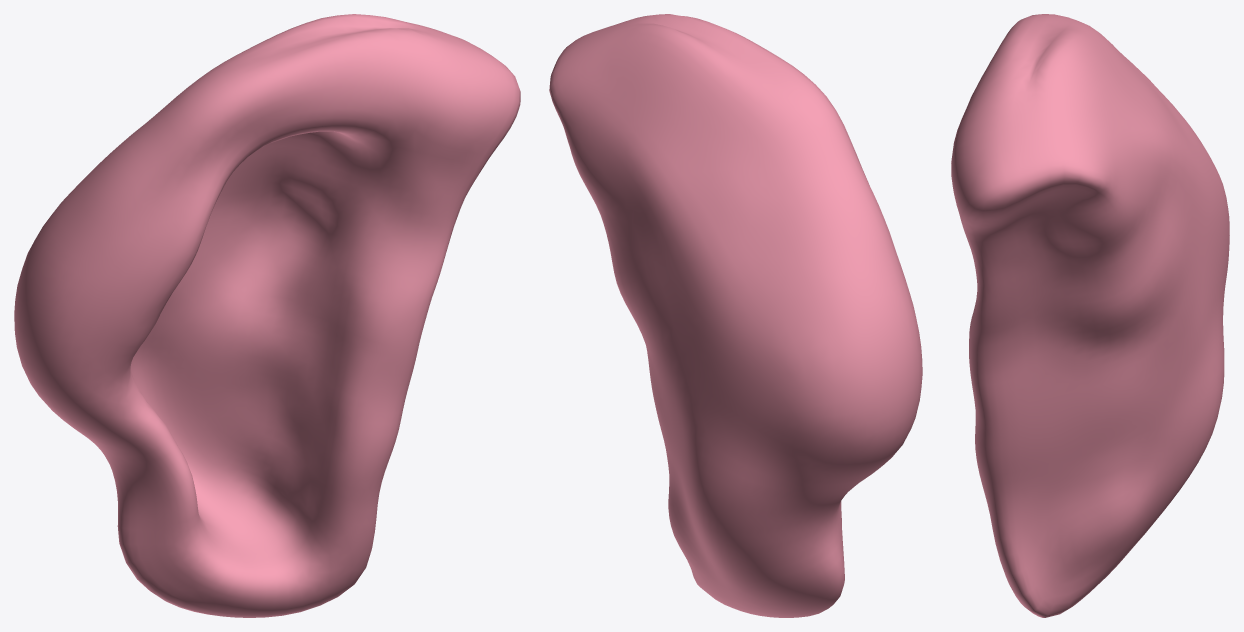
File: Ear_R_Human.fbx
3 renders of one model, left to right at view 1: azimuth 30°, elevation 25°; view 2: azimuth 150°, elevation 25°; view 3: azimuth 270°, elevation 25°, orthographic. The views are drawn at different scales.
Visible parts, largest first — view 1: ObjREar; view 2: ObjREar; view 3: ObjREar.
Boxes of the visible parts, x1,y1,x2,y2 form: ObjREar: (14,14,520,617); ObjREar: (549,14,922,617); ObjREar: (951,14,1229,617).
Size of the model in its own units: 32.96 by 43.35 by 18.57.
